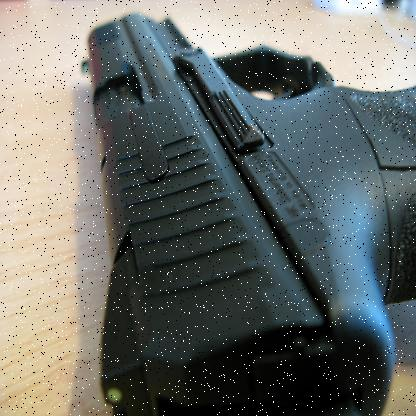pistol: (80, 14, 415, 413)
